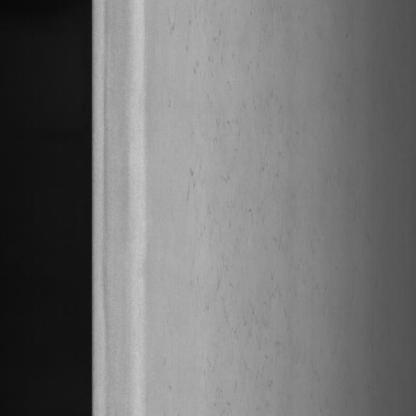silk_spot: (170, 0, 290, 355)
